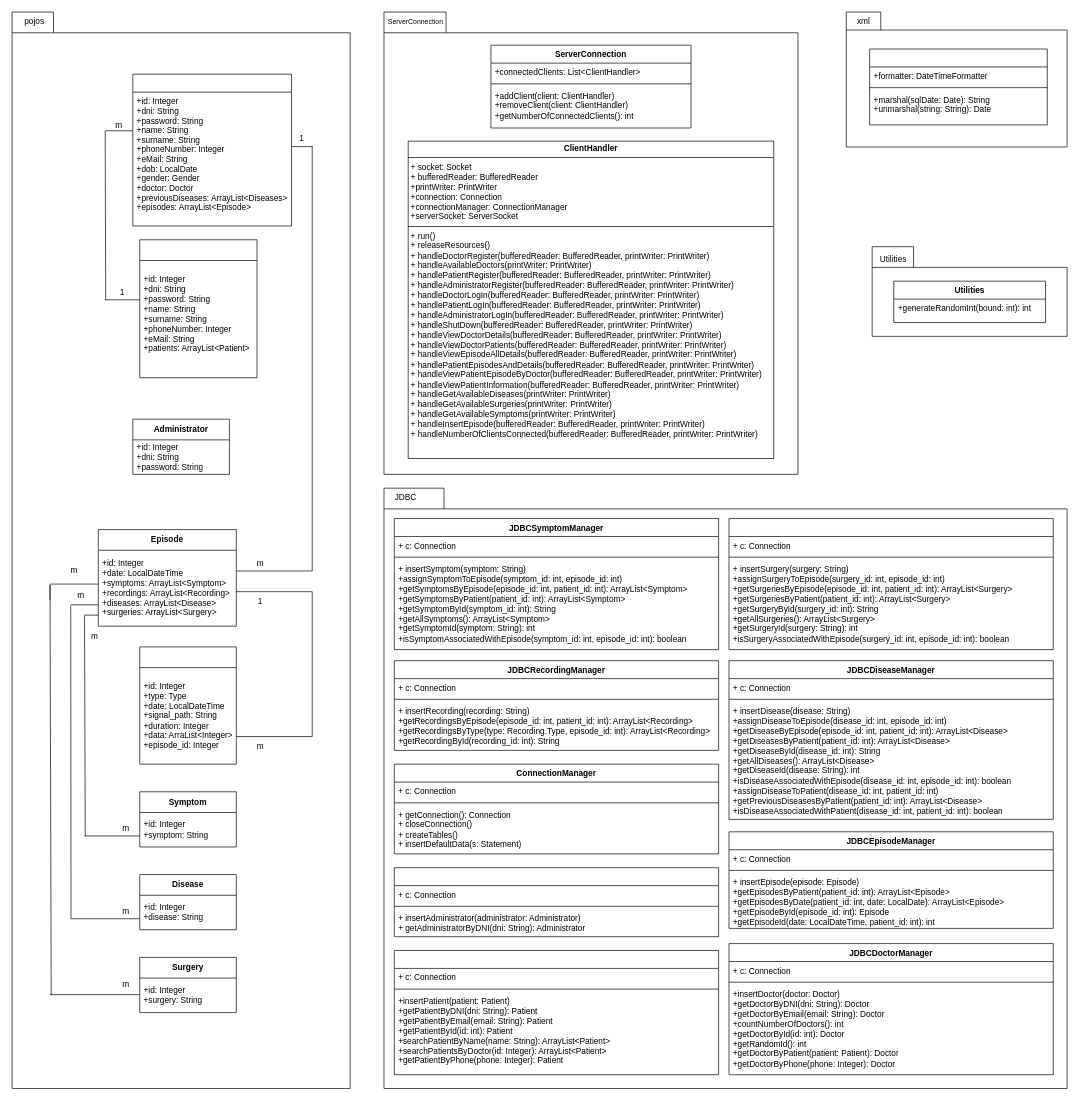
The diagram is 1079 pixels wide and 1101 high, and some of its shapes have lost their labels. Here are the shapes that lost their labels. From the top down, the box of each, then its label:
(869, 48, 1047, 125): SQLDateAdapter
(132, 73, 292, 226): Patient
(139, 239, 257, 378): Doctor
(728, 518, 1053, 650): JDBCSurgeryManager
(139, 646, 236, 764): Recording
(394, 867, 719, 937): JDBCAdministratorManager
(394, 950, 719, 1075): JDBCPatientManager
